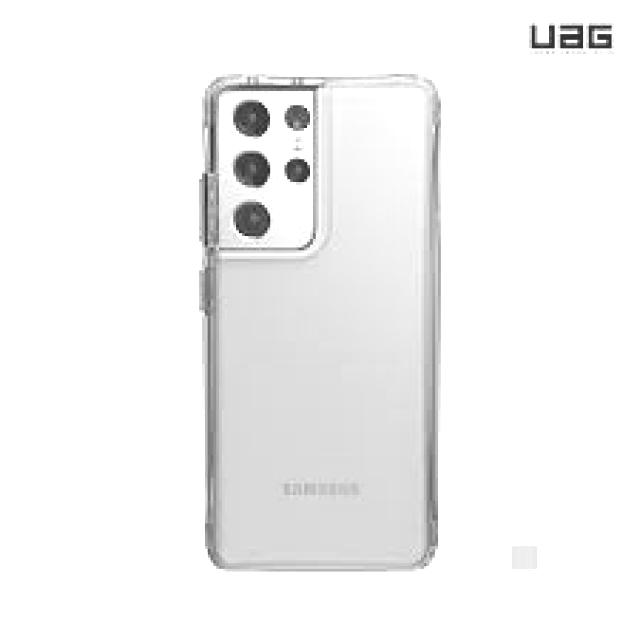fake: (202, 76, 446, 576)
